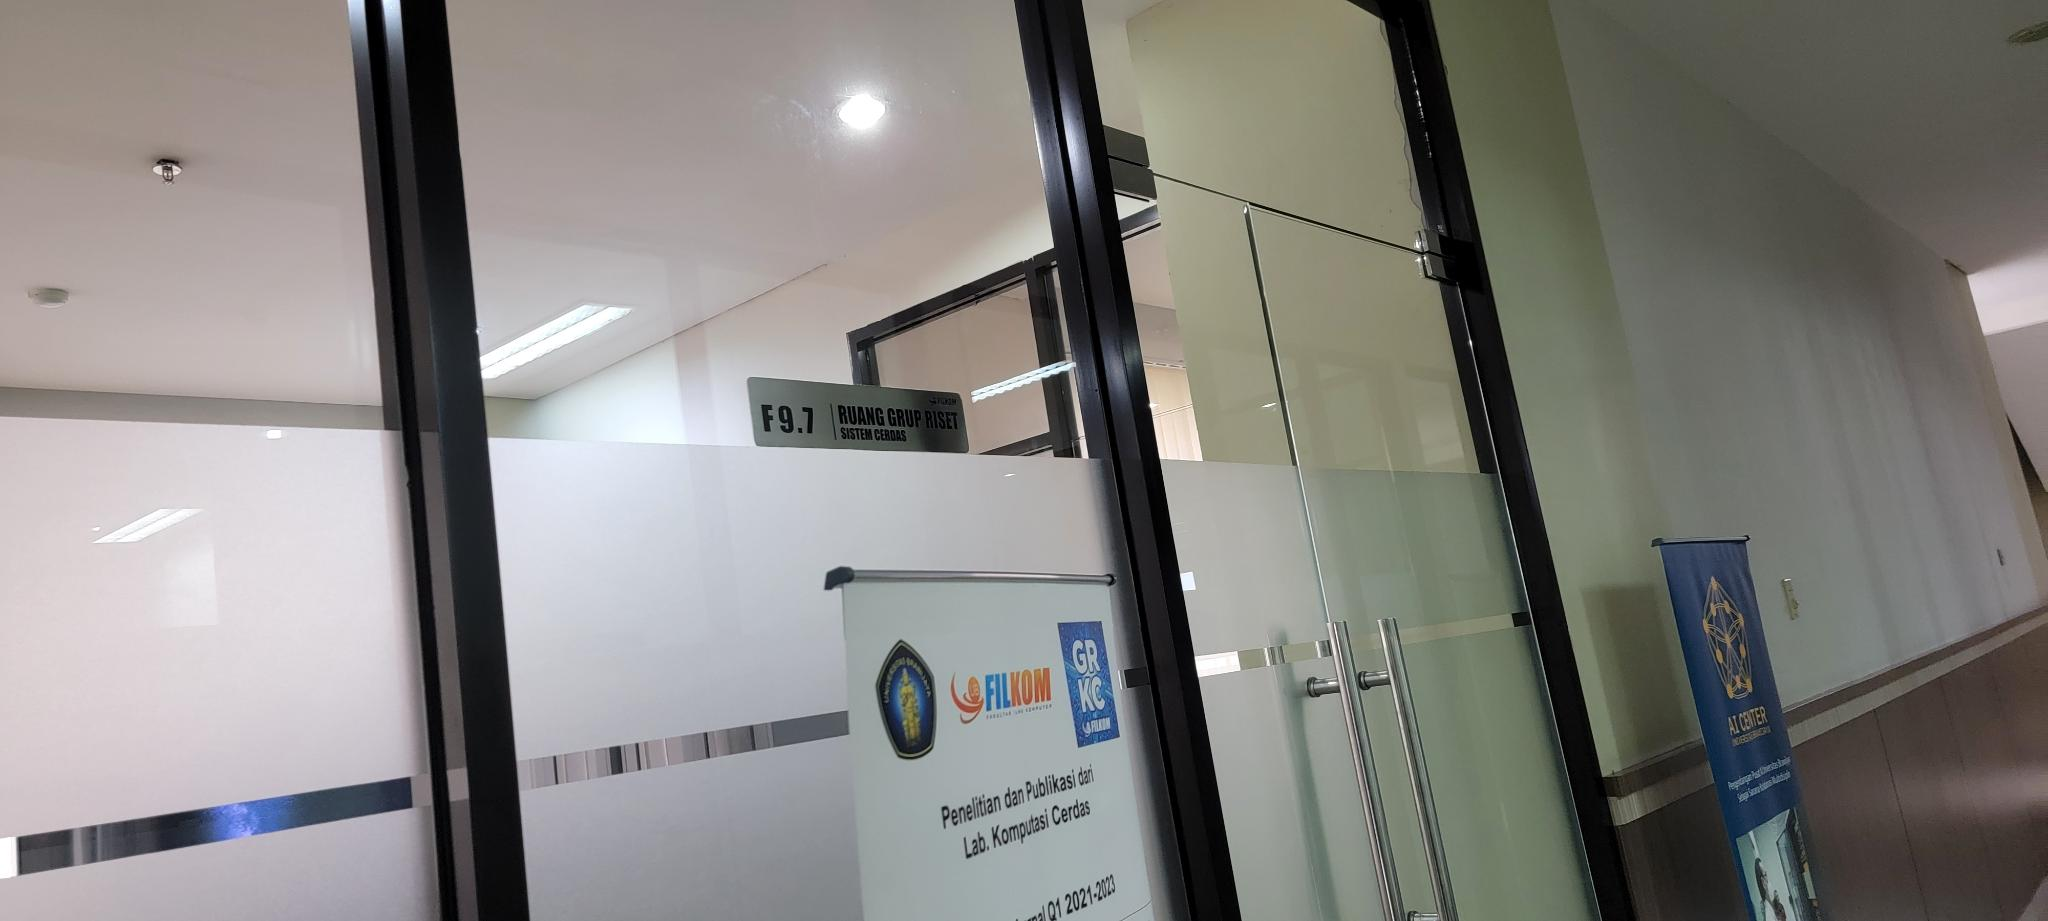plate: (750, 378, 970, 452)
